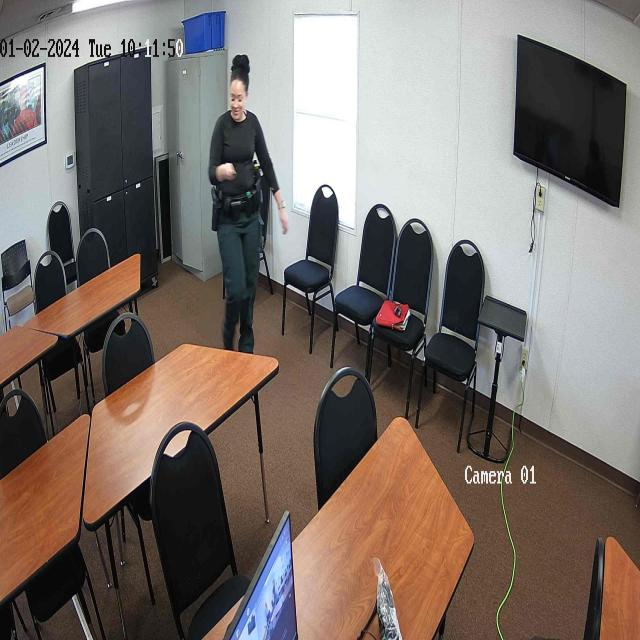weapon: (211, 185, 220, 233)
